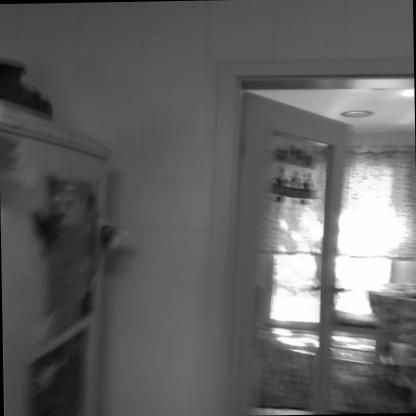semi: (203, 50, 412, 416)
